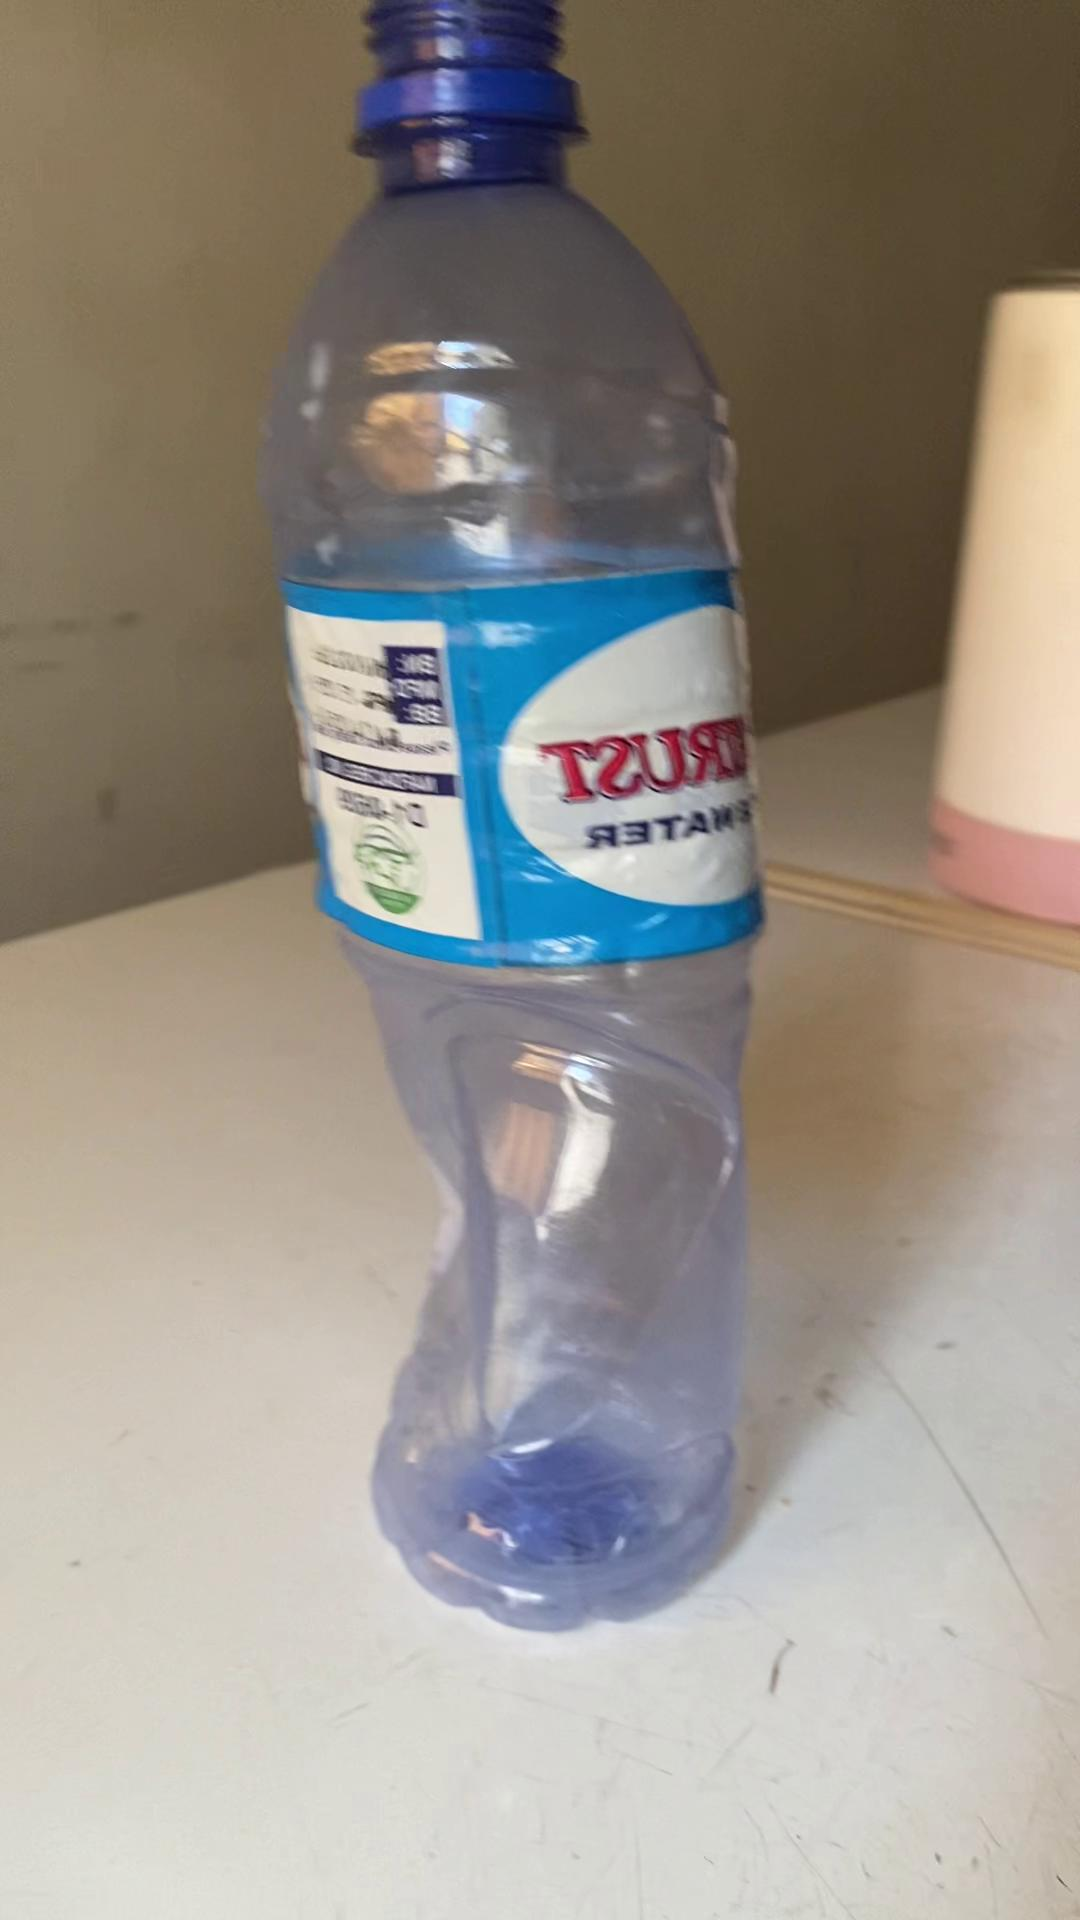crumbled: (264, 0, 760, 1634)
label: (287, 564, 749, 967)
no-cap: (352, 0, 585, 135)
